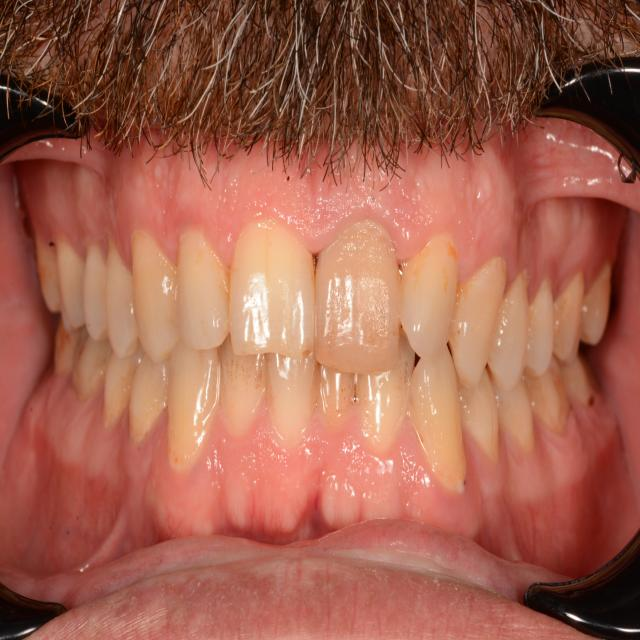tooth: (222, 214, 314, 363), (318, 240, 399, 364), (415, 362, 468, 488), (173, 351, 225, 466), (174, 243, 226, 357), (411, 243, 462, 354), (128, 238, 176, 352), (274, 362, 313, 464), (103, 241, 138, 348), (466, 274, 500, 382), (460, 384, 506, 454), (501, 275, 530, 380), (360, 376, 407, 440), (81, 242, 109, 346), (227, 358, 261, 434), (530, 275, 556, 370), (55, 241, 85, 319), (558, 274, 584, 360), (504, 380, 536, 448), (138, 364, 171, 421), (108, 347, 131, 423), (78, 341, 105, 391), (326, 378, 348, 430)
